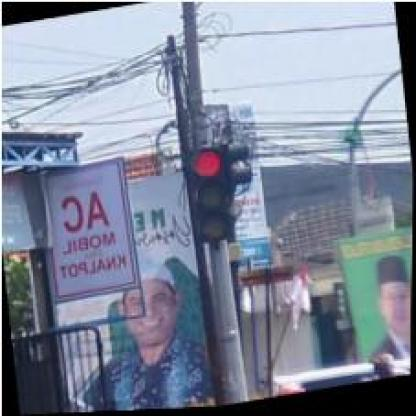red: (185, 145, 236, 244)
